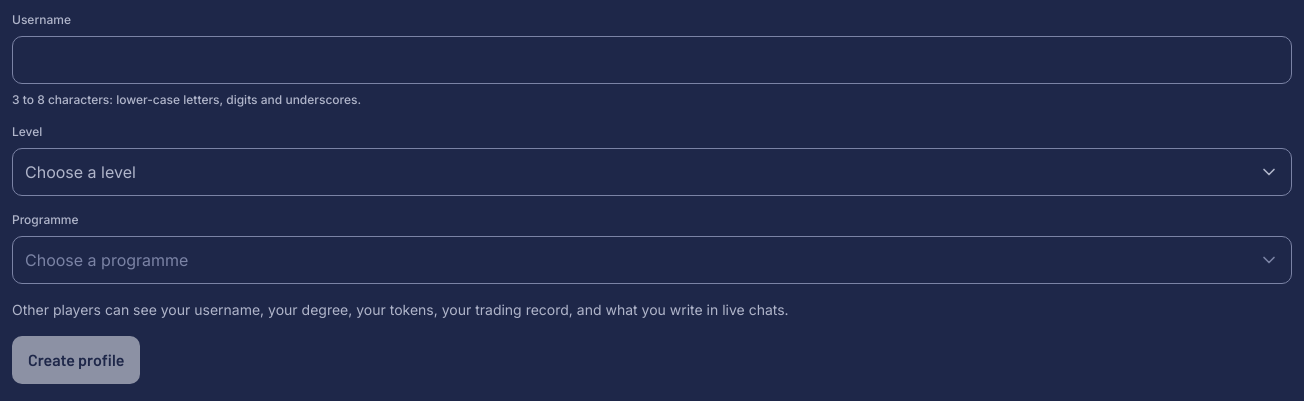
Test case: the three fields › a capital letter becomes its lower-case letter as it is typed, and the field stops at the longest name
The image size is (1304, 401).
Type "Anna_Muster" into the field labelled "Username" at (652, 60), box left=12, top=36, right=1292, bottom=84
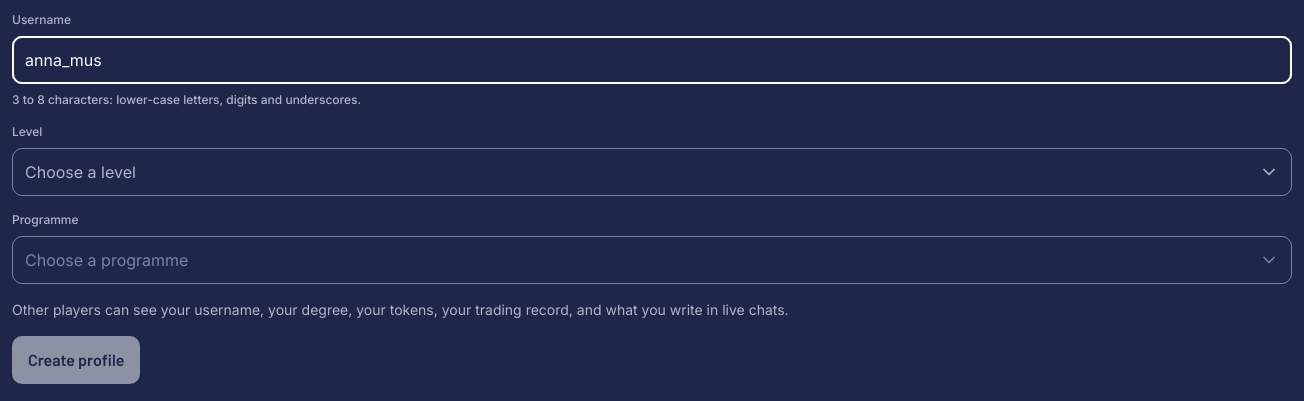
Check: the field labelled "Username" holds "anna_mus", box left=12, top=36, right=1292, bottom=84
